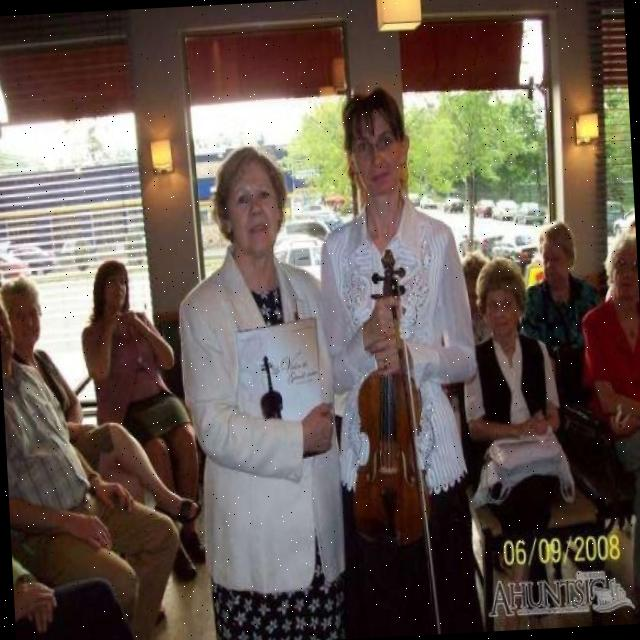violin: (337, 239, 438, 548)
